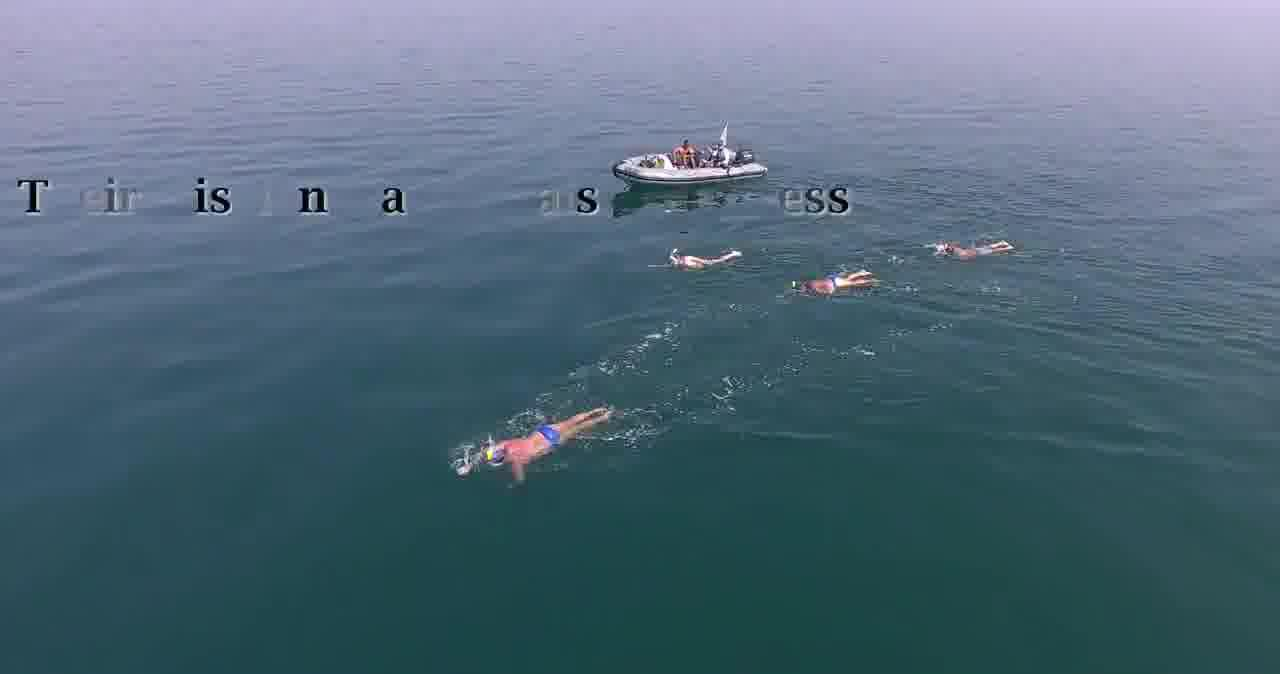swimmer: (446, 404, 613, 492), (789, 263, 875, 300), (652, 242, 739, 276), (928, 236, 1011, 258)
